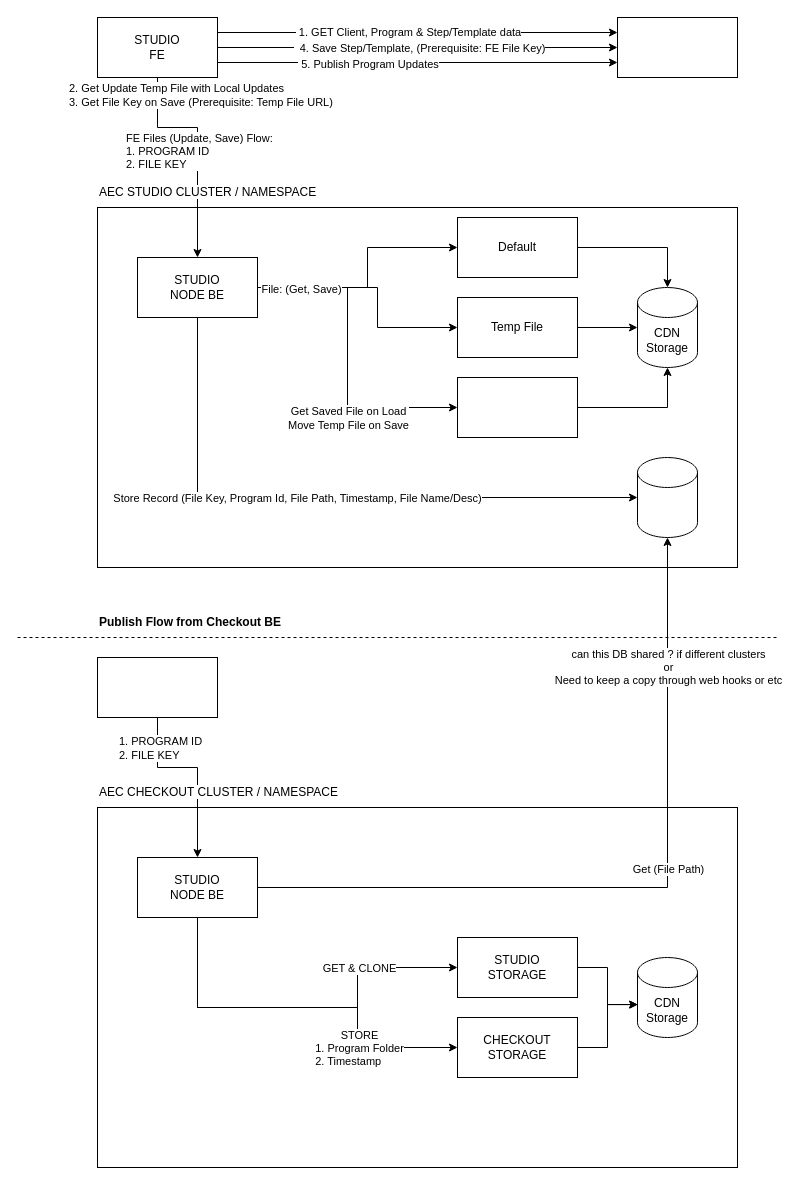
Image size: 799x1185. Some labels were removed from this diagram. Each missing label, with the box of its shape:
CHECKOUT BE: (96, 656, 218, 718)
Node DB (Mongo): (636, 456, 698, 538)
Program: (456, 376, 578, 438)
STUDIO BE: (616, 16, 738, 78)
